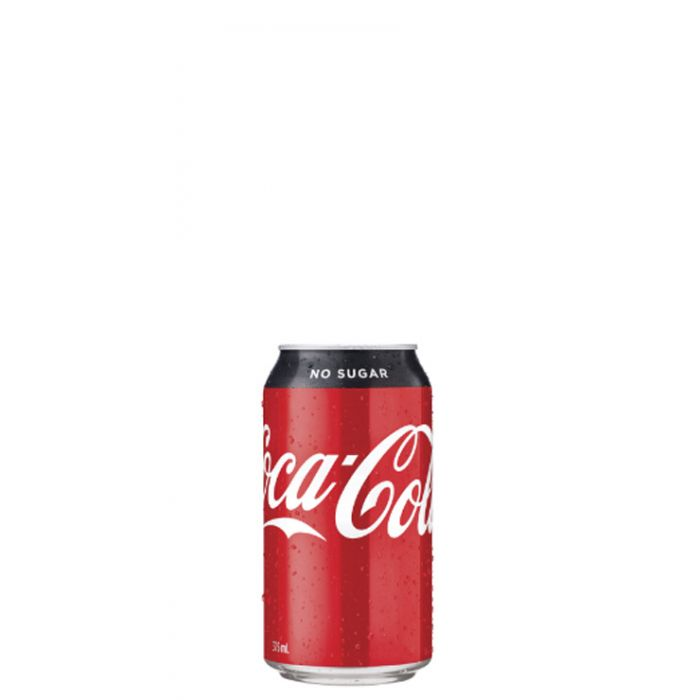can: (255, 338, 439, 690)
